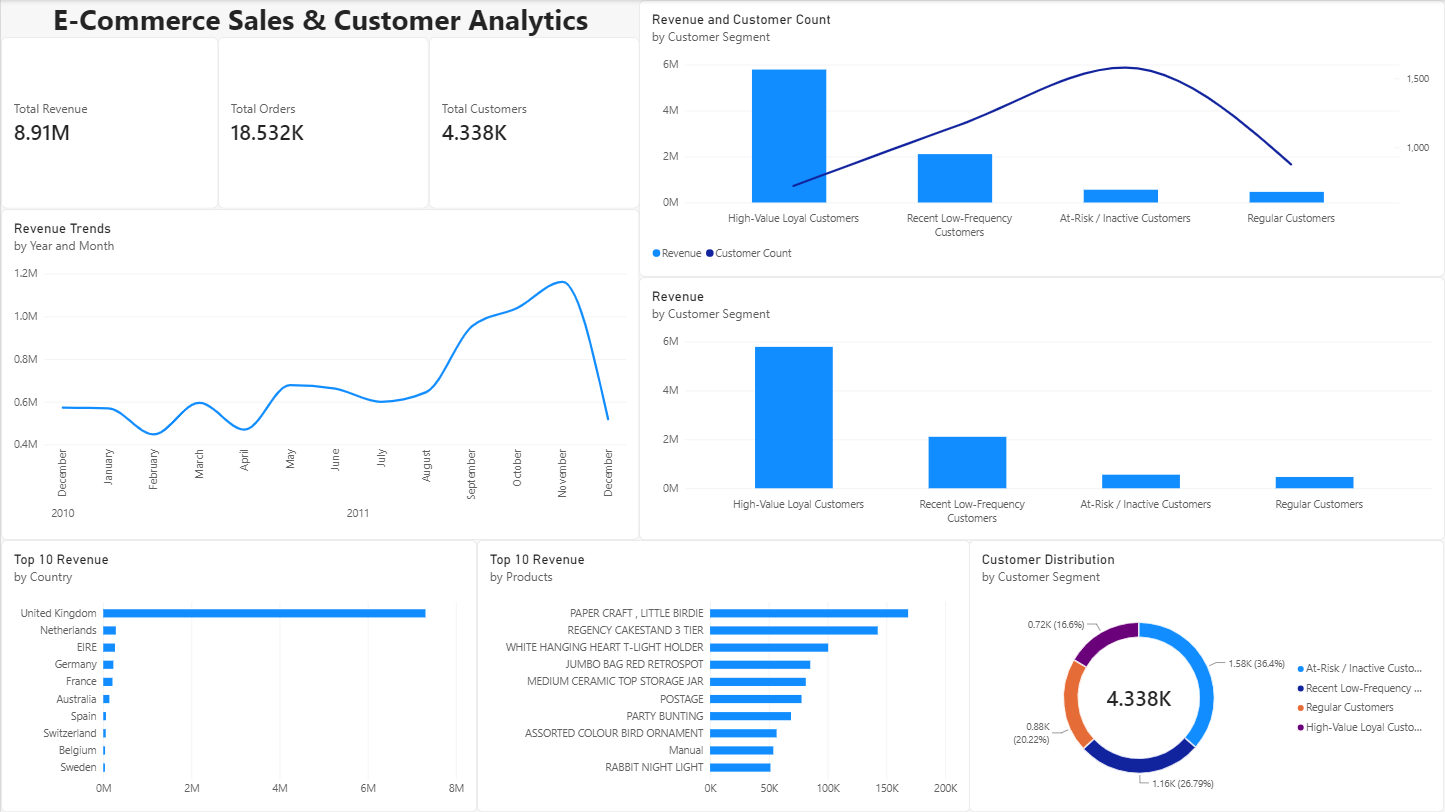

Layout of this report page (visuals, bound fields, positions):
{"tool":"powerbi","page":{"name":"Sales Overview","canvas":[1920,1080],"ordinal":0},"visuals":[{"type":"cardVisual","fields":{"Data":["Sum(ecommerce_analytics sales_summary.Revenue)"]},"box":[0,49.2,290,228.8],"z":0},{"type":"cardVisual","fields":{"Data":["Count(ecommerce_analytics sales_summary.InvoiceNo)"]},"box":[288.6,49.2,280.6,228.8],"z":1000},{"type":"cardVisual","fields":{"Data":["Count(ecommerce_analytics sales_summary.CustomerID)"]},"box":[569.3,49.2,280.6,228.8],"z":2000},{"type":"lineChart","fields":{"Category":["ecommerce_analytics sales_summary.InvoiceDate.Variation.Date Hierarchy.Year","ecommerce_analytics sales_summary.InvoiceDate.Variation.Date Hierarchy.Month"],"Y":["Sum(ecommerce_analytics sales_summary.Revenue)"]},"box":[0,278,848.6,440.2],"z":3000},{"type":"clusteredBarChart","fields":{"Category":["ecommerce_analytics sales_summary.Country"],"Y":["Sum(ecommerce_analytics sales_summary.Revenue)"]},"box":[0,718.2,633.1,361.8],"z":4000},{"type":"clusteredBarChart","fields":{"Category":["ecommerce_analytics sales_summary.Description"],"Y":["Sum(ecommerce_analytics sales_summary.Revenue)"]},"box":[633.1,718.2,655.7,361.8],"z":5000},{"type":"donutChart","fields":{"Category":["customer_segments.Segment"],"Y":["Count(customer_segments.CustomerID)"]},"box":[1288,718,631.8,361.8],"z":6000},{"type":"clusteredColumnChart","fields":{"Category":["customer_segments.Segment"],"Y":["Sum(ecommerce_analytics sales_summary.Revenue)"]},"box":[848.3,368.3,1071.7,350],"z":7000},{"type":"lineClusteredColumnComboChart","fields":{"Category":["customer_segments.Segment"],"Y":["Sum(ecommerce_analytics sales_summary.Revenue)"],"Y2":["Count(customer_segments.CustomerID)"]},"box":[848,0,1071.7,368.3],"z":8000},{"type":"textbox","box":[0,0,850,50],"z":9000}]}

Visuals, with their boxes in screenshot pixels (x1, y1, x2, y2), scaled from the page's 1920x1080 canvas onto the 1445x812 screenshot:
cardVisual - Sum(ecommerce_analytics sales_summary.Revenue): x1=0 y1=37 x2=218 y2=209
cardVisual - Count(ecommerce_analytics sales_summary.InvoiceNo): x1=217 y1=37 x2=428 y2=209
cardVisual - Count(ecommerce_analytics sales_summary.CustomerID): x1=428 y1=37 x2=640 y2=209
lineChart - ecommerce_analytics sales_summary.InvoiceDate.Variation.Date Hierarchy.Year x ecommerce_analytics sales_summary.InvoiceDate.Variation.Date Hierarchy.Month: x1=0 y1=209 x2=639 y2=540
clusteredBarChart - ecommerce_analytics sales_summary.Country x Sum(ecommerce_analytics sales_summary.Revenue): x1=0 y1=540 x2=476 y2=811
clusteredBarChart - ecommerce_analytics sales_summary.Description x Sum(ecommerce_analytics sales_summary.Revenue): x1=476 y1=540 x2=970 y2=811
donutChart - customer_segments.Segment x Count(customer_segments.CustomerID): x1=969 y1=540 x2=1444 y2=811
clusteredColumnChart - customer_segments.Segment x Sum(ecommerce_analytics sales_summary.Revenue): x1=638 y1=277 x2=1444 y2=540
lineClusteredColumnComboChart - customer_segments.Segment x Sum(ecommerce_analytics sales_summary.Revenue): x1=638 y1=0 x2=1444 y2=277
textbox: x1=0 y1=0 x2=640 y2=38
